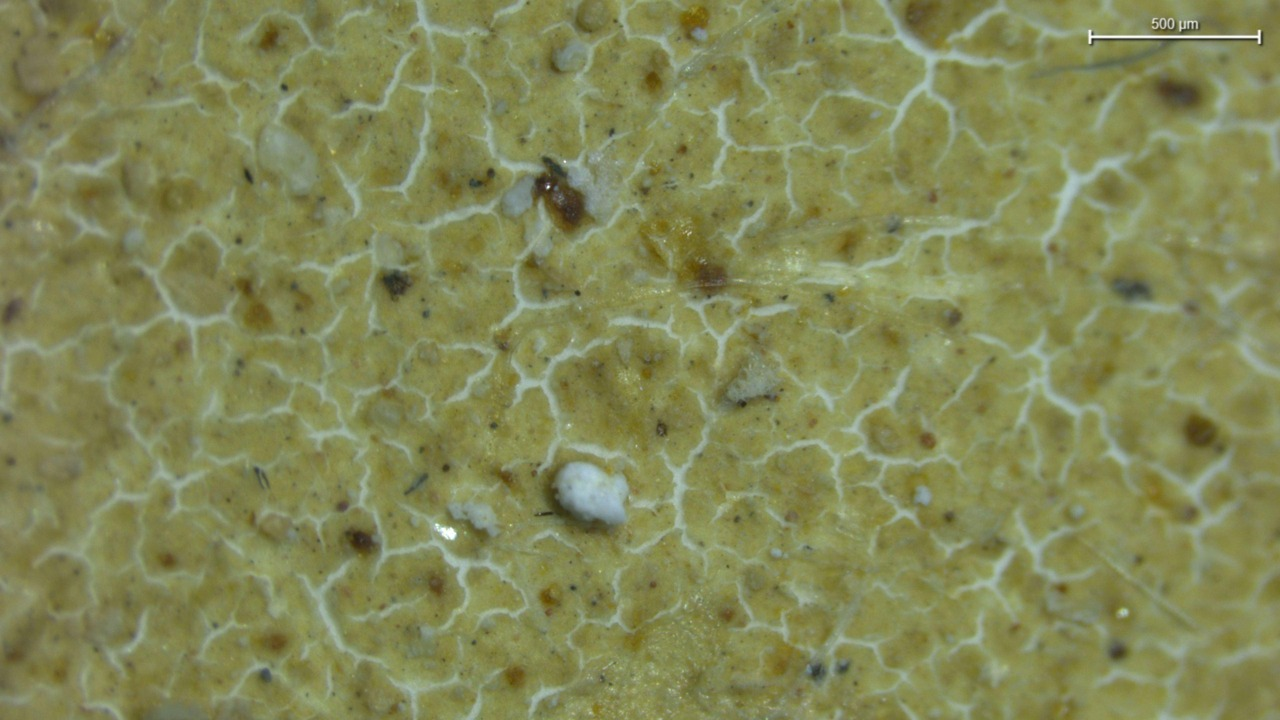microplastic_fragment: (555, 462, 628, 526), (448, 501, 499, 536), (501, 175, 534, 218), (552, 40, 586, 71)
